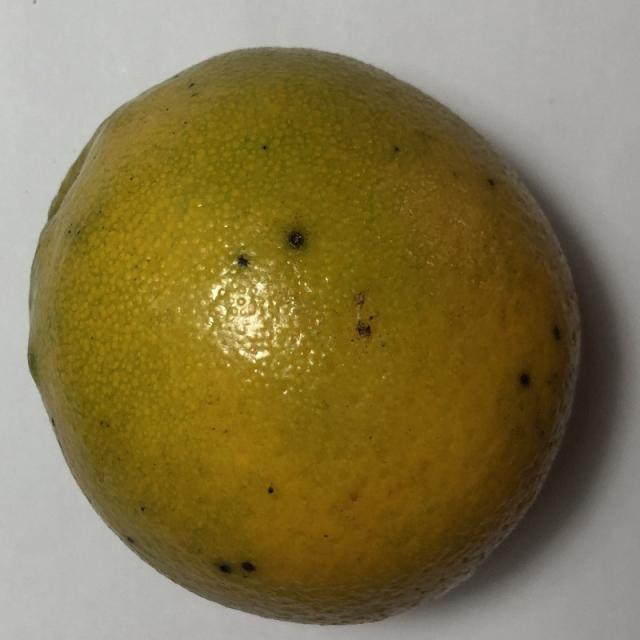blackspot: (12, 30, 616, 633)
